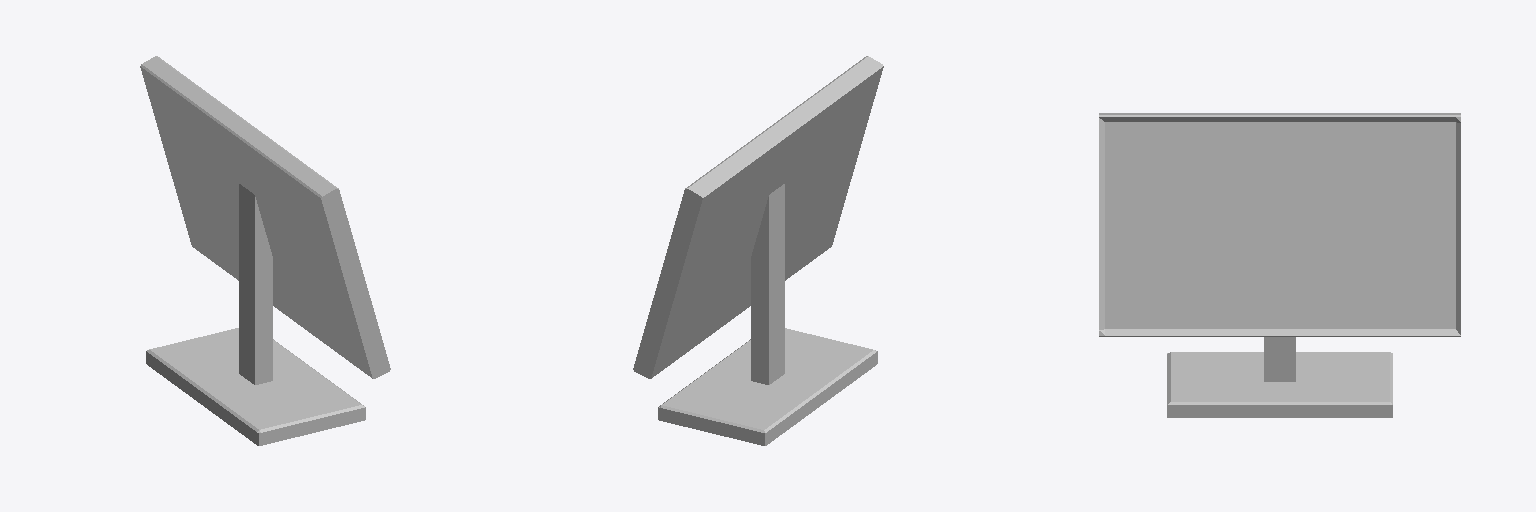
The model's file is pantalla caja.obj.
The picture shows the model from 3 angles: view 1: azimuth 30°, elevation 25°; view 2: azimuth 150°, elevation 25°; view 3: azimuth 270°, elevation 25°; orthographic projection.
Visible parts, largest first — view 1: pantalla_caja; view 2: pantalla_caja; view 3: pantalla_caja.
Part boxes in pixels (bbox=[...]): pantalla_caja: bbox=[140, 56, 390, 445]; pantalla_caja: bbox=[633, 56, 883, 445]; pantalla_caja: bbox=[1099, 113, 1460, 417].
Size of the model in its own units: 0.6859 by 1.66 by 2.